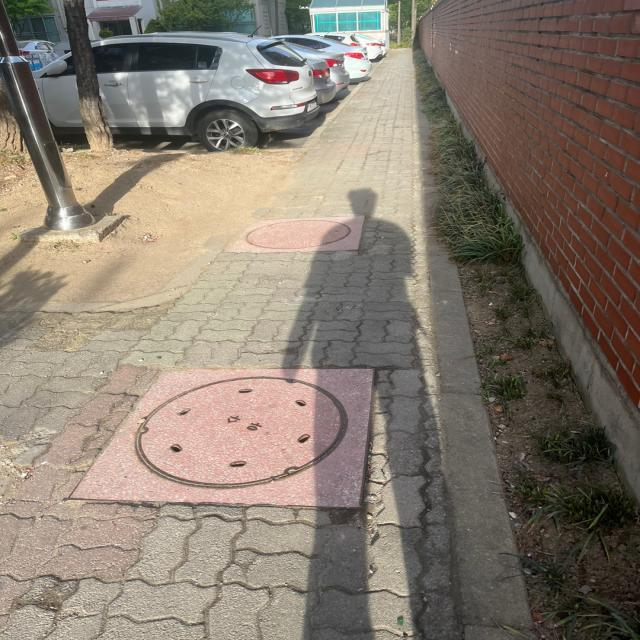Sewer Cover: (66, 343, 395, 539), (221, 208, 385, 265)
